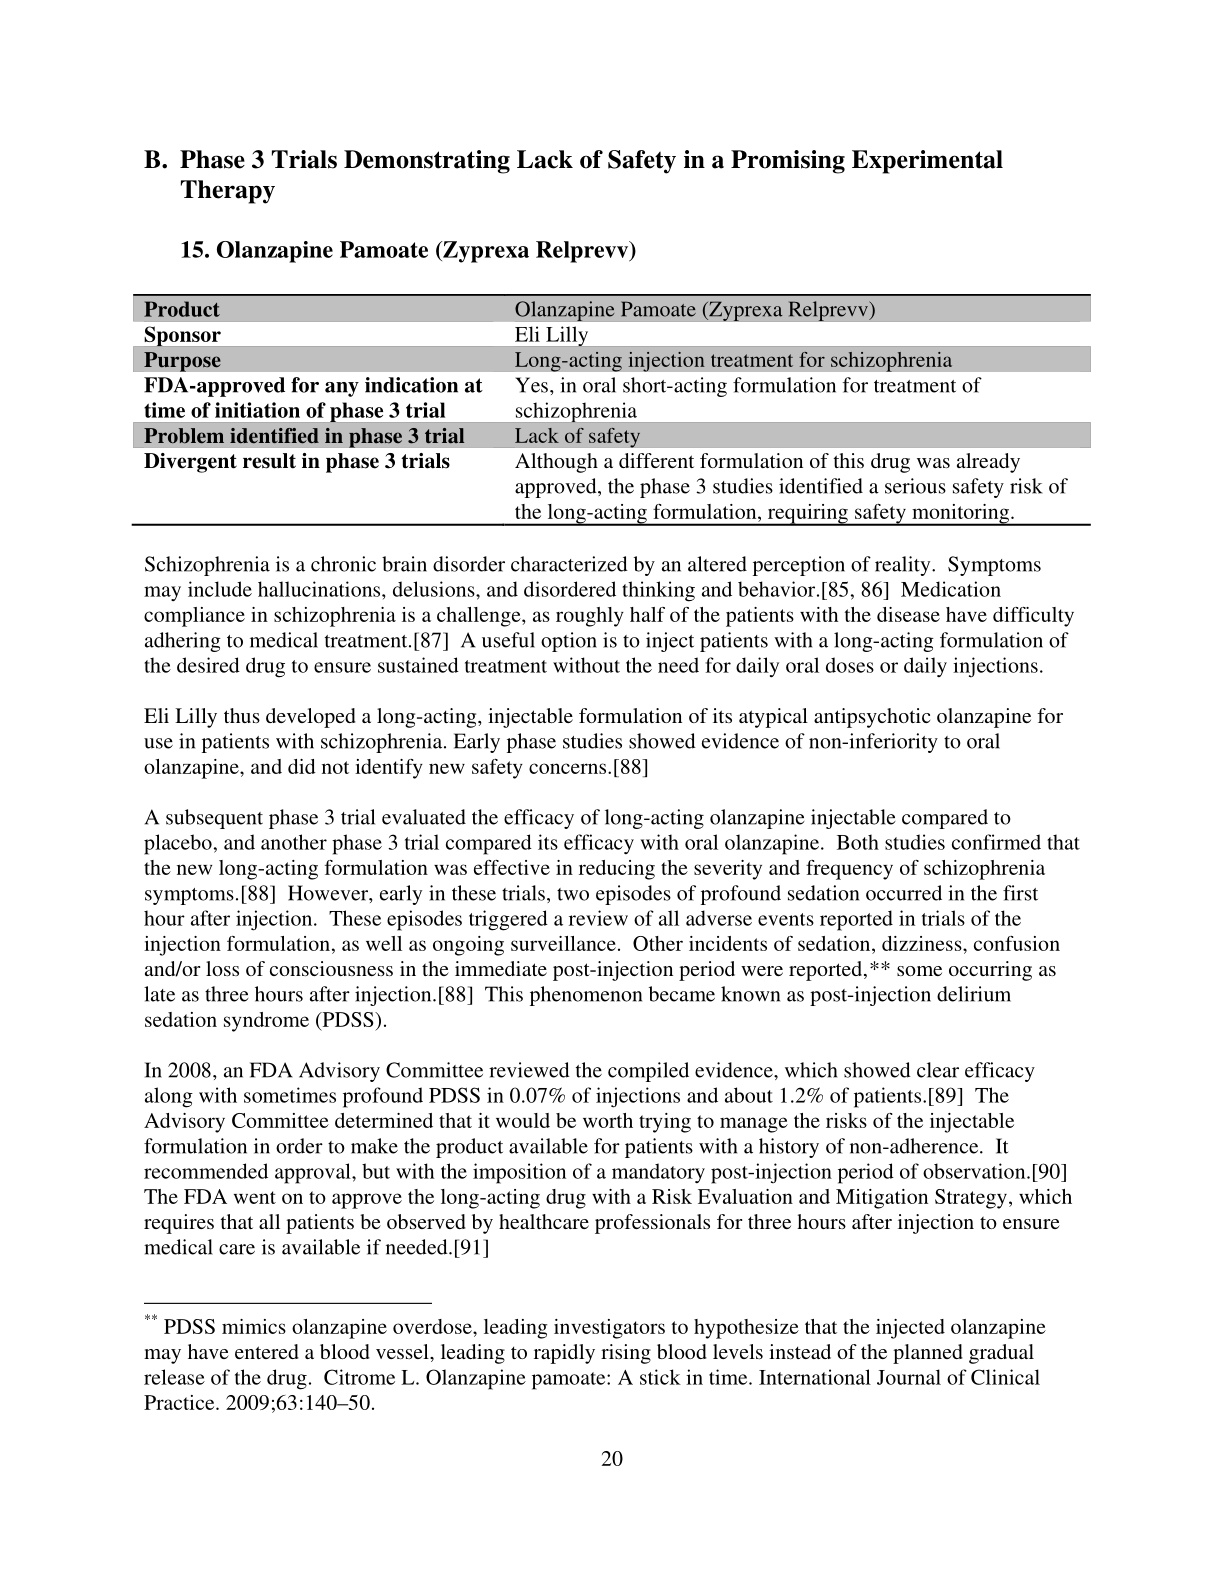partial_lined: (131, 294, 1092, 527)
